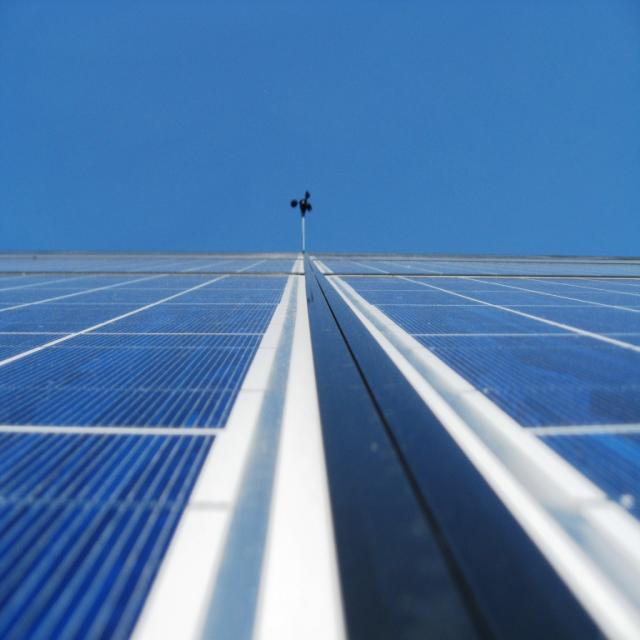clean-solar-panel: (0, 255, 640, 638)
